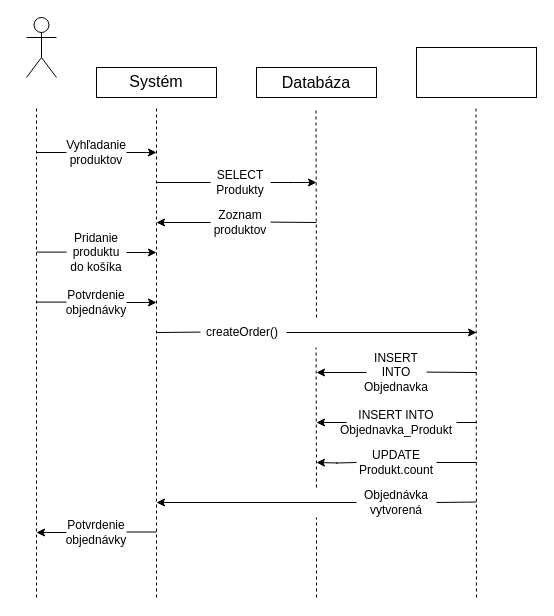
The diagram is 554 pixels wide and 616 high, and some of its shapes have lost their labels. Here are the shapes that lost their labels. From the top down, the box of each, then its label:
(26, 16, 56, 78): Zákazník
(416, 46, 536, 98): Objednávkový modul
